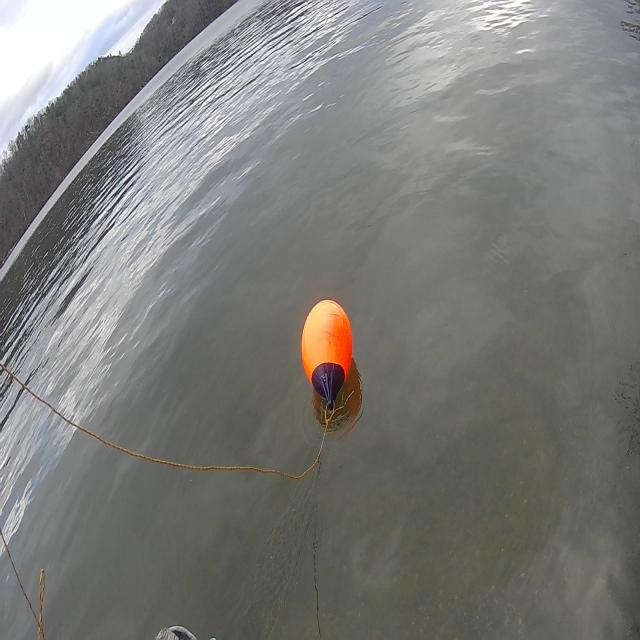Buoy: (296, 295, 356, 396)
